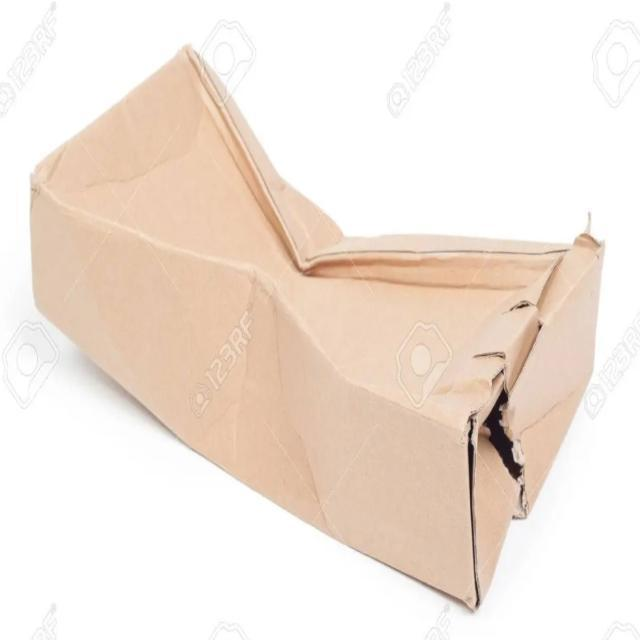box: (128, 69, 255, 288), (108, 249, 258, 417), (372, 46, 488, 214)
